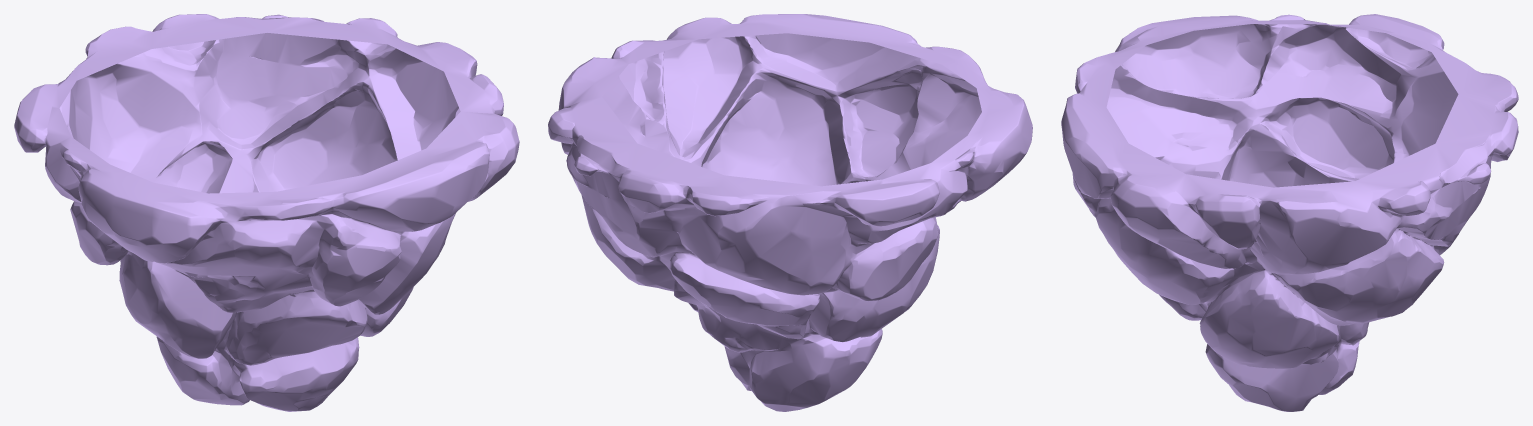
The model's file is island_4_LOD1.fbx.
The picture shows the model from 3 angles, left to right: view 1: azimuth 30°, elevation 25°; view 2: azimuth 150°, elevation 25°; view 3: azimuth 270°, elevation 25°; orthographic projection. The views are drawn at different scales.
Parts seen in each view (by area): view 1: island_4_LOD1; view 2: island_4_LOD1; view 3: island_4_LOD1.
Part boxes in pixels (bbox=[...]): island_4_LOD1: bbox=[14, 14, 519, 411]; island_4_LOD1: bbox=[548, 14, 1032, 411]; island_4_LOD1: bbox=[1061, 14, 1518, 411].
Bounding box in the file's own units: 1530 × 1067 × 1496.
